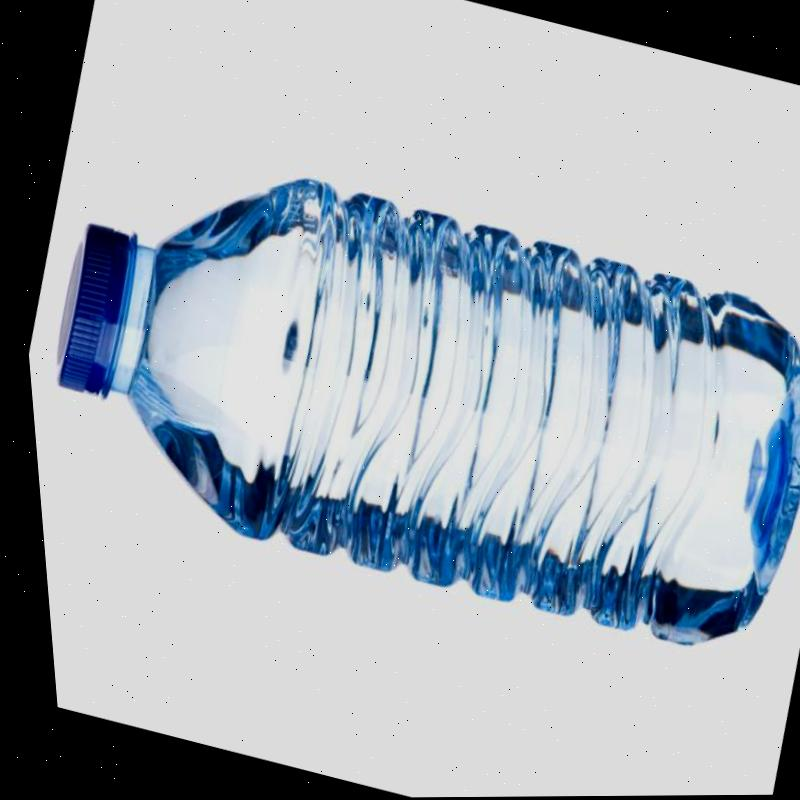botella: (8, 114, 800, 675)
